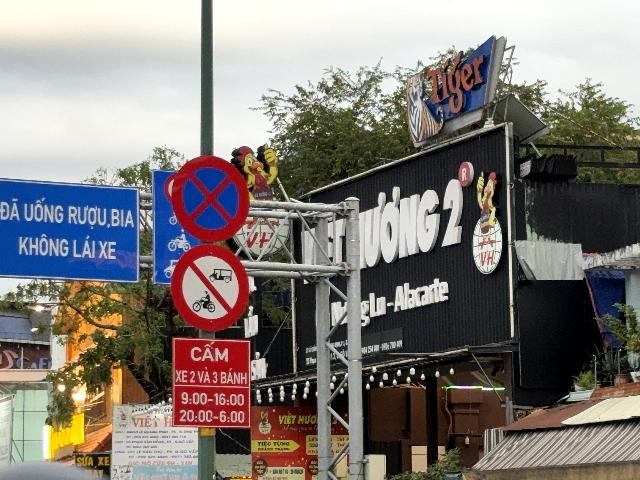cam-dung-va-do-xe: (171, 154, 251, 242)
cam-xe-2-banh-3-banh: (169, 243, 250, 333)
